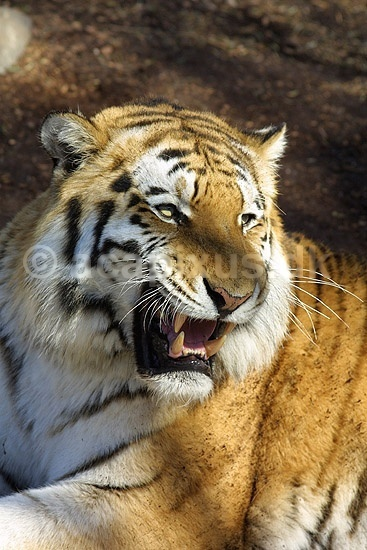tigre: (2, 92, 367, 547)
